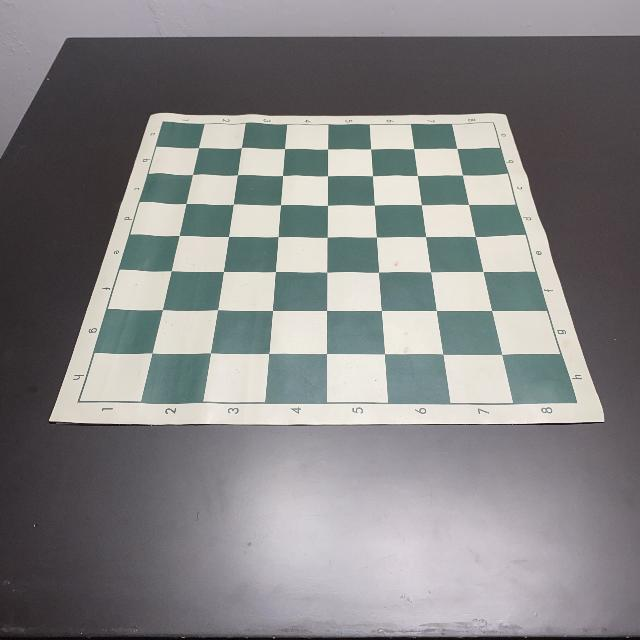board: (49, 111, 605, 426)
